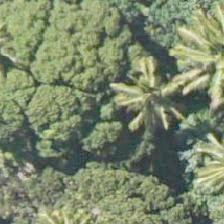Kelapa_Sawit: (110, 34, 200, 124)
